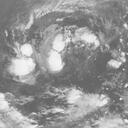cyclone: (23, 30, 73, 80)
